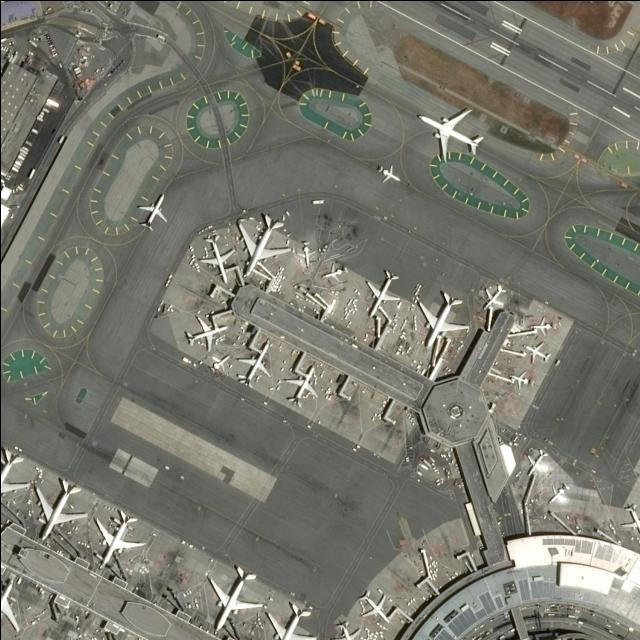Aircraft: (203, 560, 260, 632), (417, 102, 483, 160), (30, 475, 85, 540), (234, 211, 286, 275), (91, 505, 143, 568), (419, 289, 465, 343), (264, 602, 318, 640), (197, 232, 231, 284), (0, 443, 26, 505), (364, 270, 398, 316), (181, 313, 225, 348), (235, 341, 269, 383), (134, 189, 168, 229), (282, 364, 316, 404), (1, 570, 20, 632), (357, 589, 387, 623), (616, 501, 640, 535), (482, 283, 506, 313), (318, 259, 347, 283), (329, 618, 357, 640), (523, 341, 549, 363), (374, 162, 398, 183), (293, 240, 314, 264), (508, 369, 529, 391), (531, 315, 550, 337)
